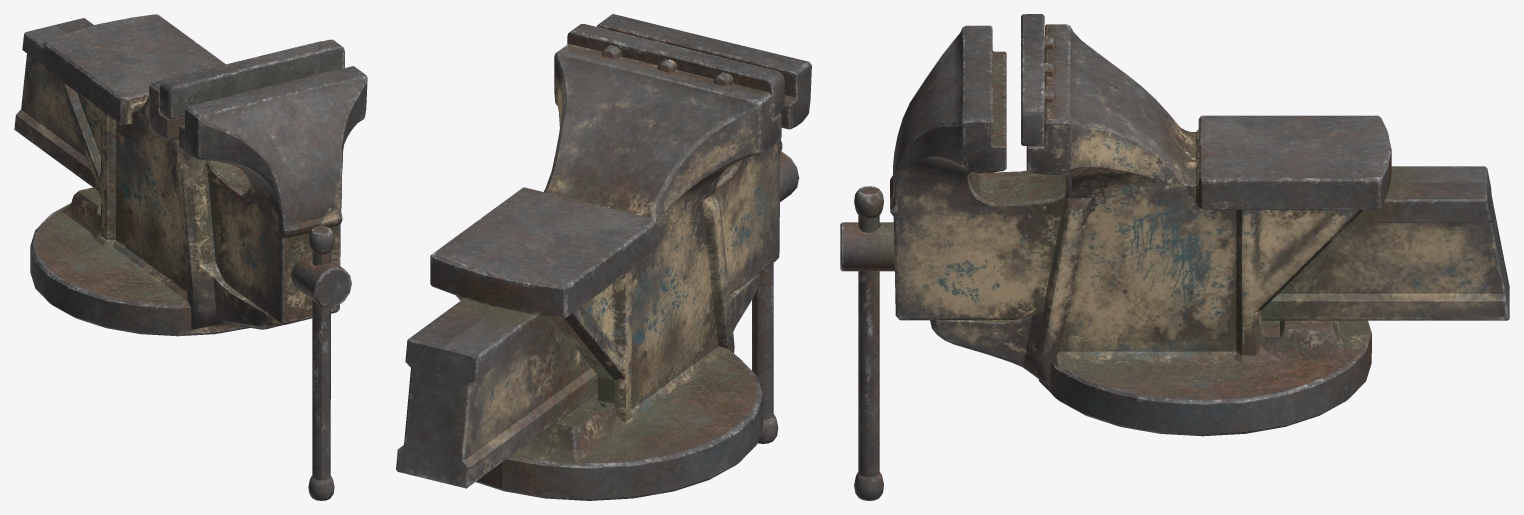
File: prop-bench-vice.glb
3 renders of one model, left to right at view 1: azimuth 30°, elevation 25°; view 2: azimuth 150°, elevation 25°; view 3: azimuth 270°, elevation 25°, orthographic. The views are drawn at different scales.
Parts seen in each view (by area): view 1: bench_vice_frame, bench_vice_clamp, bench_vice_bar, bench_vice_dial; view 2: bench_vice_frame, bench_vice_clamp, bench_vice_bar, bench_vice_dial; view 3: bench_vice_frame, bench_vice_clamp, bench_vice_bar, bench_vice_dial.
Boxes of the visible parts, x1=… form: bench_vice_frame: x1=30, y1=14, x2=344, y2=336; bench_vice_clamp: x1=14, y1=18, x2=367, y2=324; bench_vice_bar: x1=308, y1=226, x2=334, y2=500; bench_vice_dial: x1=291, y1=252, x2=351, y2=308; bench_vice_frame: x1=430, y1=24, x2=784, y2=500; bench_vice_clamp: x1=396, y1=14, x2=811, y2=488; bench_vice_bar: x1=752, y1=263, x2=778, y2=443; bench_vice_dial: x1=780, y1=151, x2=799, y2=201; bench_vice_frame: x1=930, y1=14, x2=1391, y2=436; bench_vice_clamp: x1=890, y1=25, x2=1509, y2=320; bench_vice_bar: x1=854, y1=186, x2=883, y2=500; bench_vice_dial: x1=840, y1=222, x2=894, y2=271.
Size of the model in its own units: 0.2005 by 0.2851 by 0.3957.
Materials: 1 (1 with a texture image).
